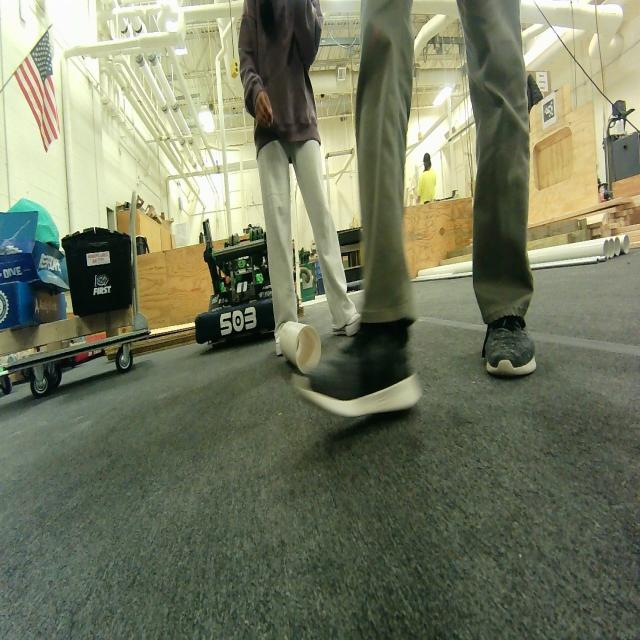coral: (276, 321, 322, 374)
